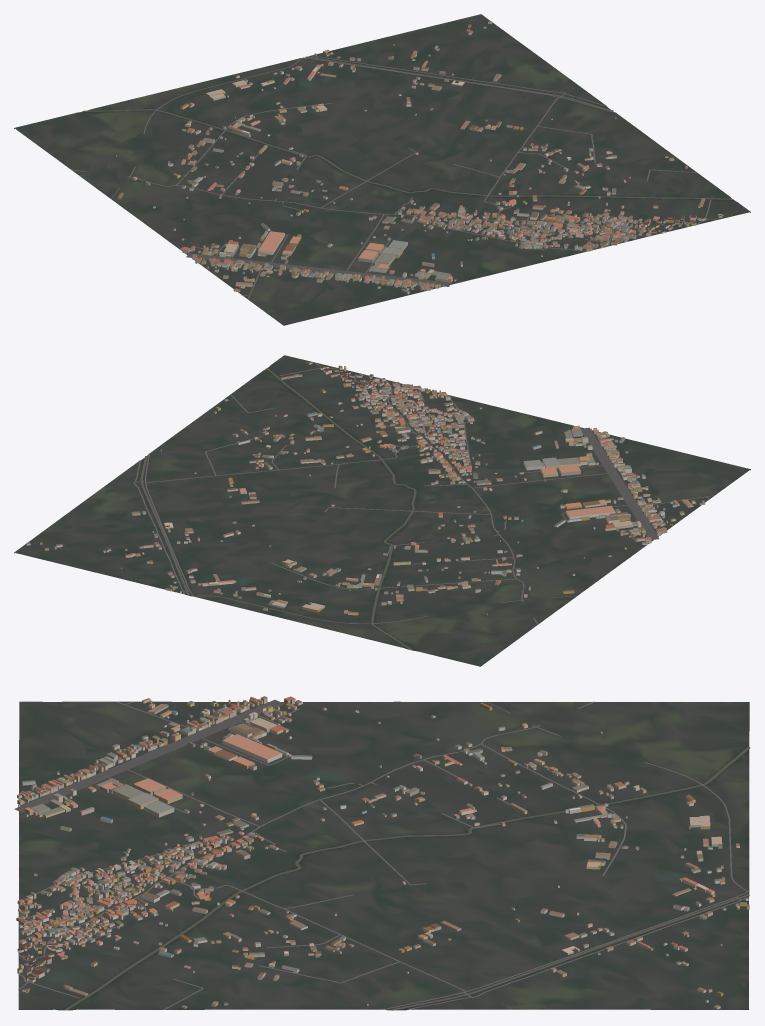
3 renders of one model, top to bottom at view 1: azimuth 30°, elevation 25°; view 2: azimuth 150°, elevation 25°; view 3: azimuth 270°, elevation 25°, orthographic. The views are drawn at different scales.
Visible parts, largest first — view 1: ground, buildings, roads, water; view 2: ground, buildings, roads, water; view 3: ground, buildings, roads, water.
Part boxes in pixels (x1=…): ground: x1=14, y1=14, x2=750, y2=325; buildings: x1=115, y1=21, x2=723, y2=294; roads: x1=71, y1=55, x2=720, y2=299; water: x1=82, y1=56, x2=733, y2=199; ground: x1=14, y1=355, x2=750, y2=666; buildings: x1=26, y1=361, x2=705, y2=615; roads: x1=133, y1=362, x2=714, y2=624; water: x1=140, y1=368, x2=416, y2=650; ground: x1=18, y1=701, x2=749, y2=1010; buildings: x1=16, y1=696, x2=749, y2=1009; roads: x1=14, y1=699, x2=749, y2=1009; water: x1=65, y1=747, x2=750, y2=1010.
Bounding box in the file's own units: 1412 × 18.37 × 1415.
